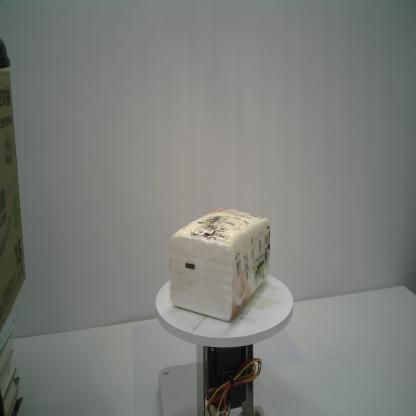Tissue: (166, 206, 274, 322)
